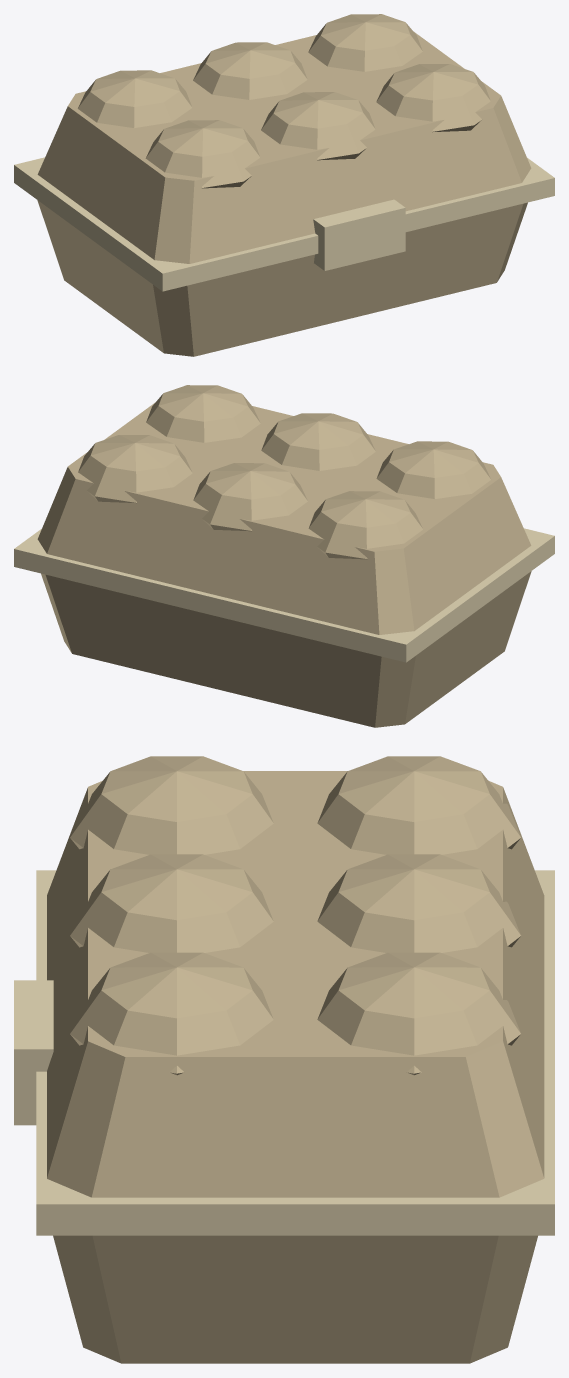
Rendered from b16_six_egg_carton.glb.
3 renders of one model, top to bottom at view 1: azimuth 30°, elevation 25°; view 2: azimuth 150°, elevation 25°; view 3: azimuth 270°, elevation 25°, orthographic. The views are drawn at different scales.
Visible parts, largest first — view 1: b16_six_egg_carton; view 2: b16_six_egg_carton; view 3: b16_six_egg_carton.
Part boxes in pixels (x1,y1,x2,y2): b16_six_egg_carton: (14, 14, 554, 356); b16_six_egg_carton: (14, 385, 554, 727); b16_six_egg_carton: (14, 756, 554, 1363).
Size of the model in its own units: 0.16 by 0.078 by 0.1095.
